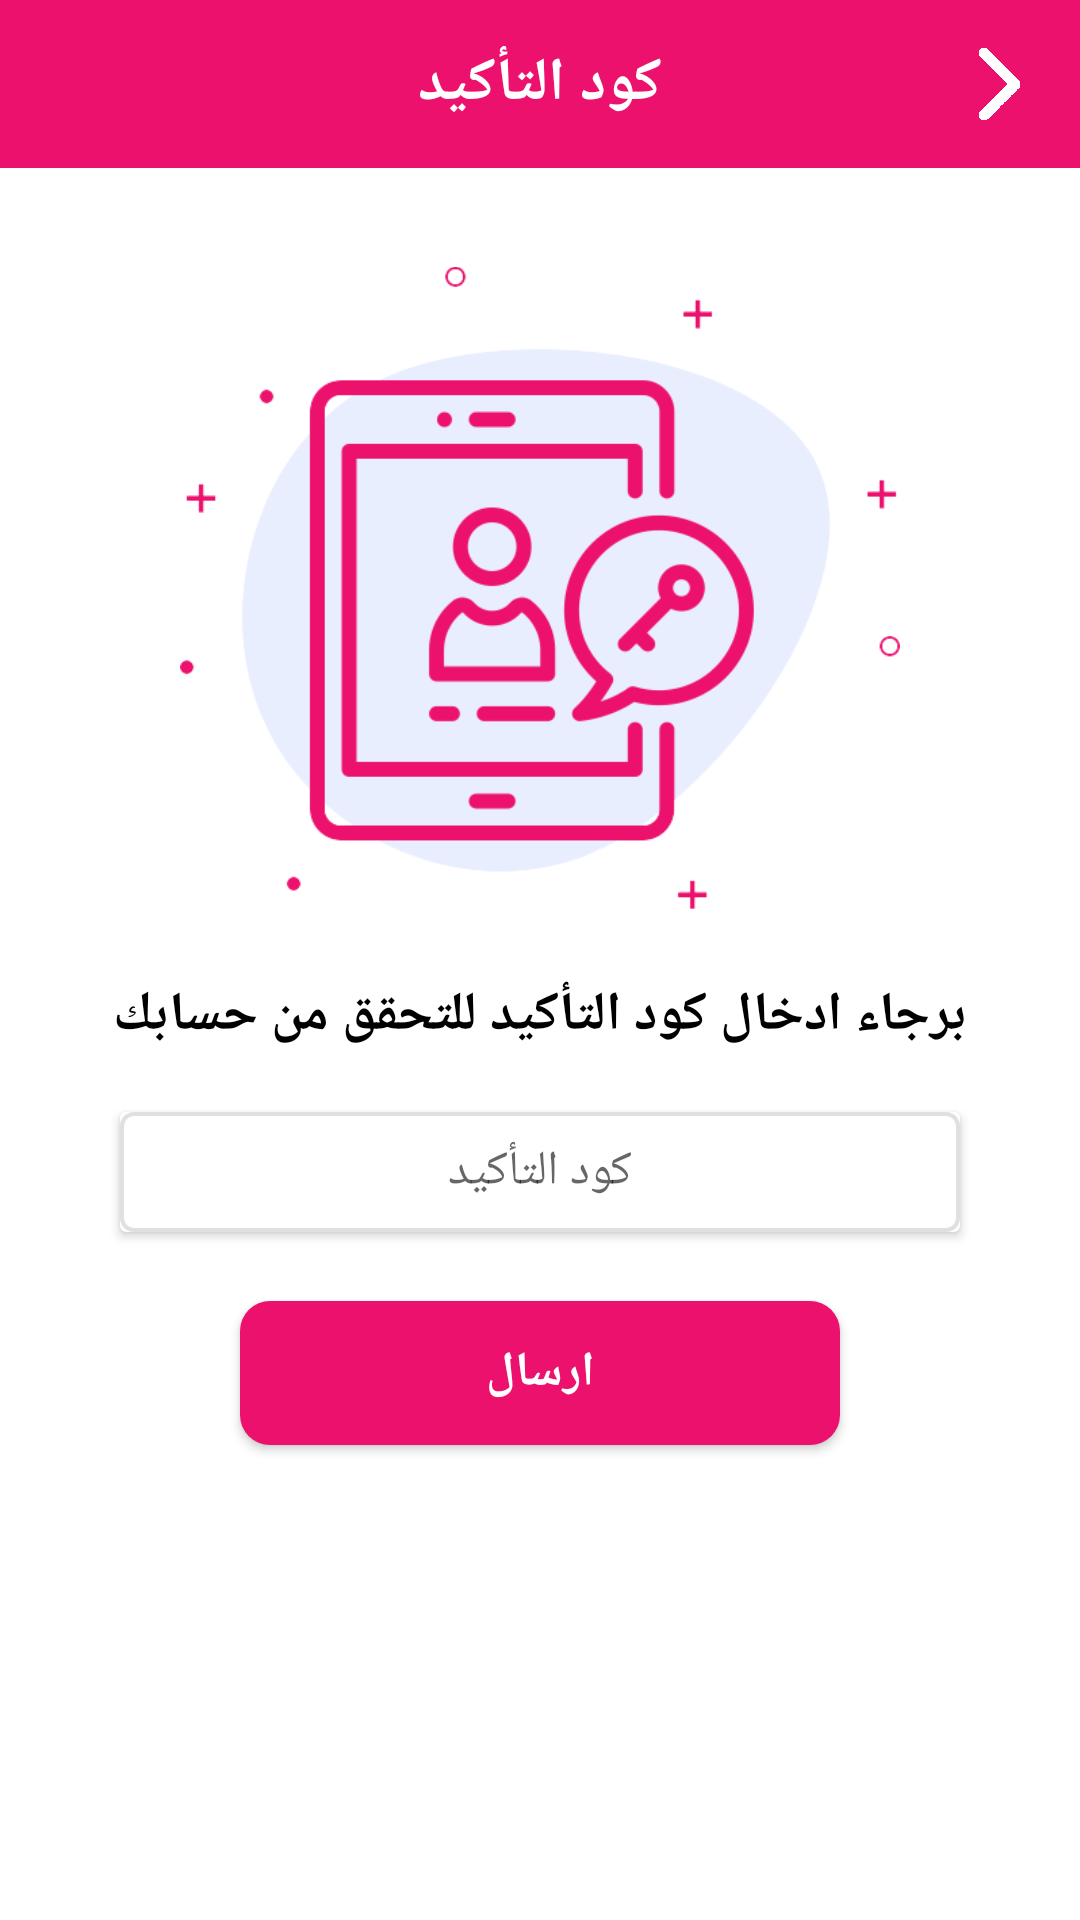

Point at icon controls on the screen. Image size 1080px×1920px, points as (x,y).
arwo: (999,84)
